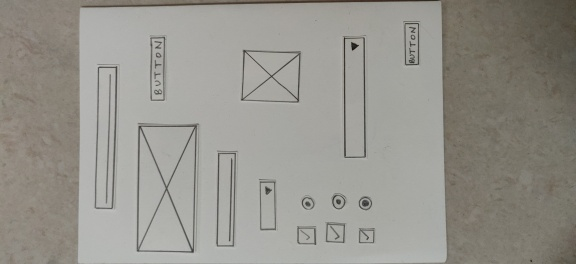button: (148, 34, 167, 103), (402, 20, 421, 68)
checkbox: (324, 221, 347, 245), (295, 224, 318, 245), (355, 226, 377, 247)
dropdown: (341, 34, 368, 160), (256, 177, 279, 232)
img: (135, 122, 197, 255), (239, 48, 302, 106)
radio: (356, 195, 374, 213), (330, 192, 347, 211), (300, 194, 316, 212)
text: (94, 63, 116, 212), (214, 149, 239, 249)
